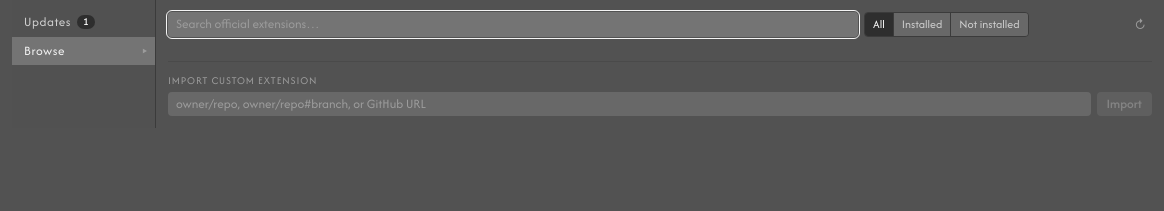
Test case: ExtensionManagerPanel Update all › passes over a version that already failed to start, leaving its own Update
Step 1. Click the button "Updates 1" → point(84, 22), box [12,8,155,36]
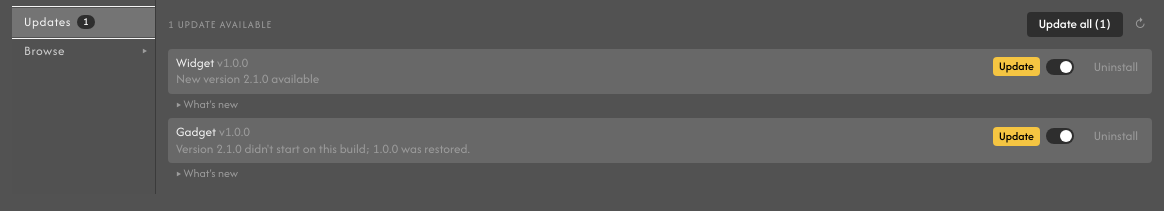
Now the text "Version 2.1.0 didn't start on this build; 1.0.0 was restored." is shown, box [176,140,470,156]
Now the number of buttons "Update" is 2, box [993,57,1040,76]; [993,127,1040,146]
Step 2. Click the button "Update all (1)" → point(1075, 24), box [1027,12,1122,36]
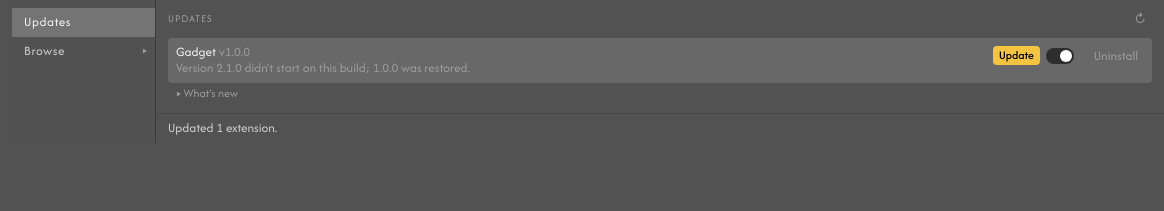
Now the text "Updated 1 extension." is shown, box [156,113,1163,142]
